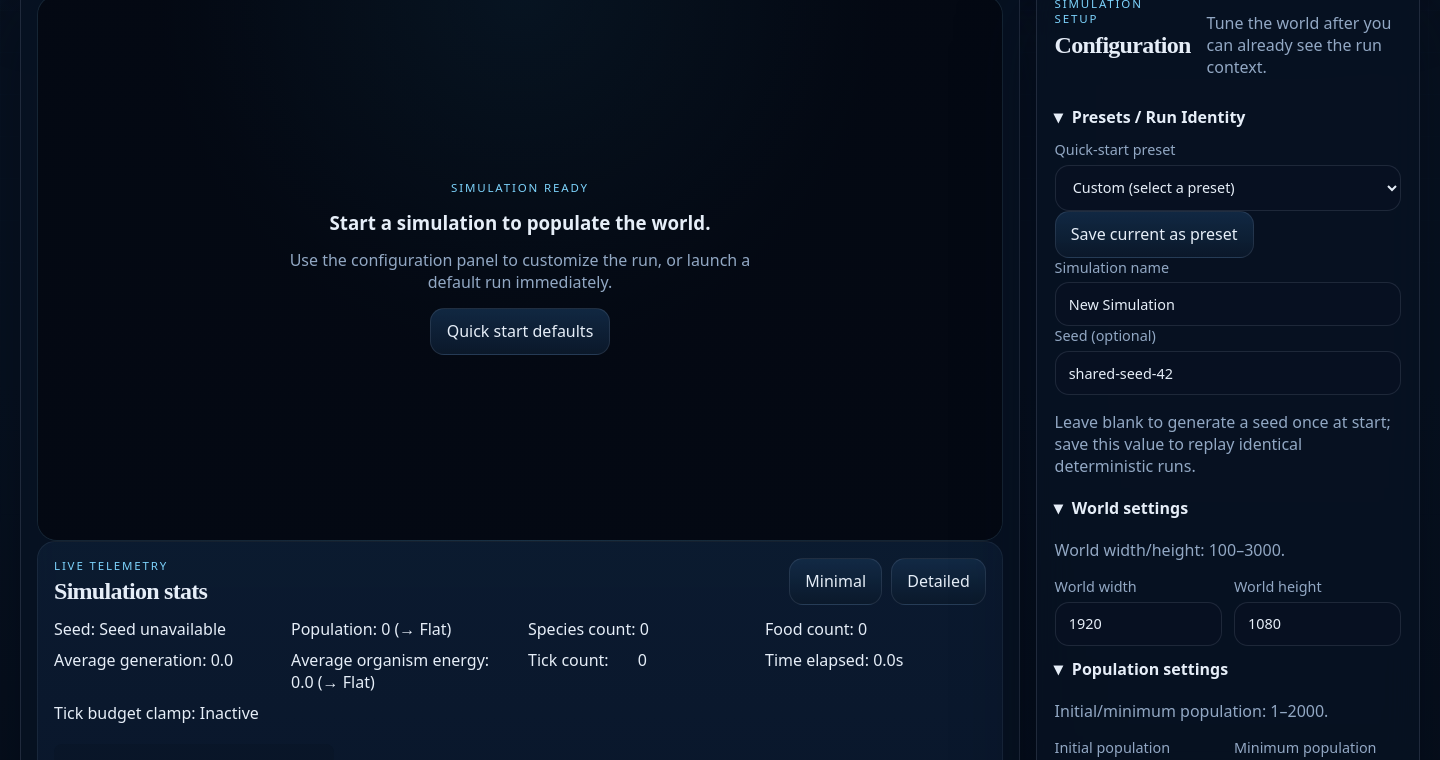
Test: App › shows URL seed mismatch banner with explicit values when active seed differs
(page scrolled)
Step 1. Replace the text in the field labelled "Seed (optional)" with "local-seed-99" → {"x": 1228, "y": 373}, box x1=1055 y1=351 x2=1401 y2=395
(page scrolled)
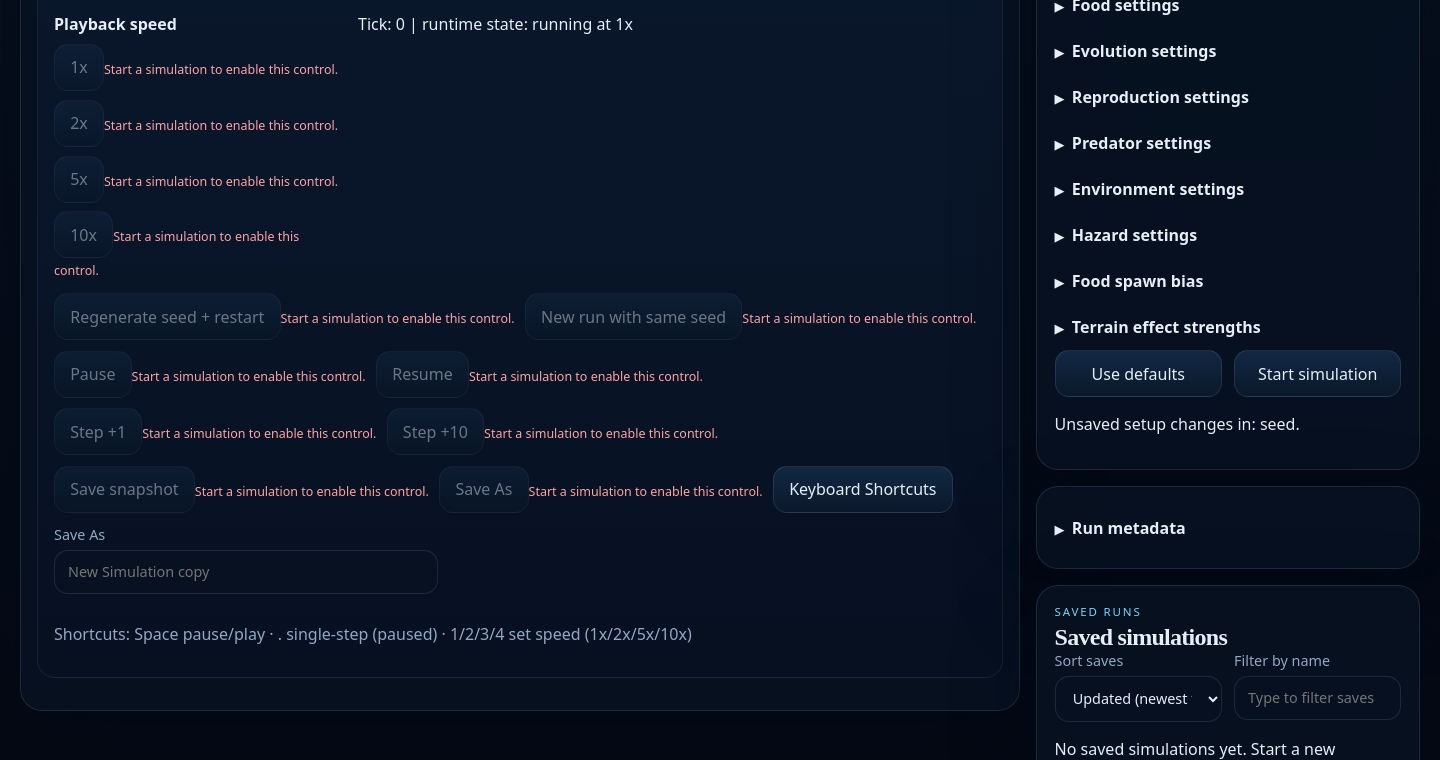
Step 2. Click the button "Start simulation" → {"x": 1318, "y": 374}, box x1=1234 y1=350 x2=1401 y2=397
(page scrolled)
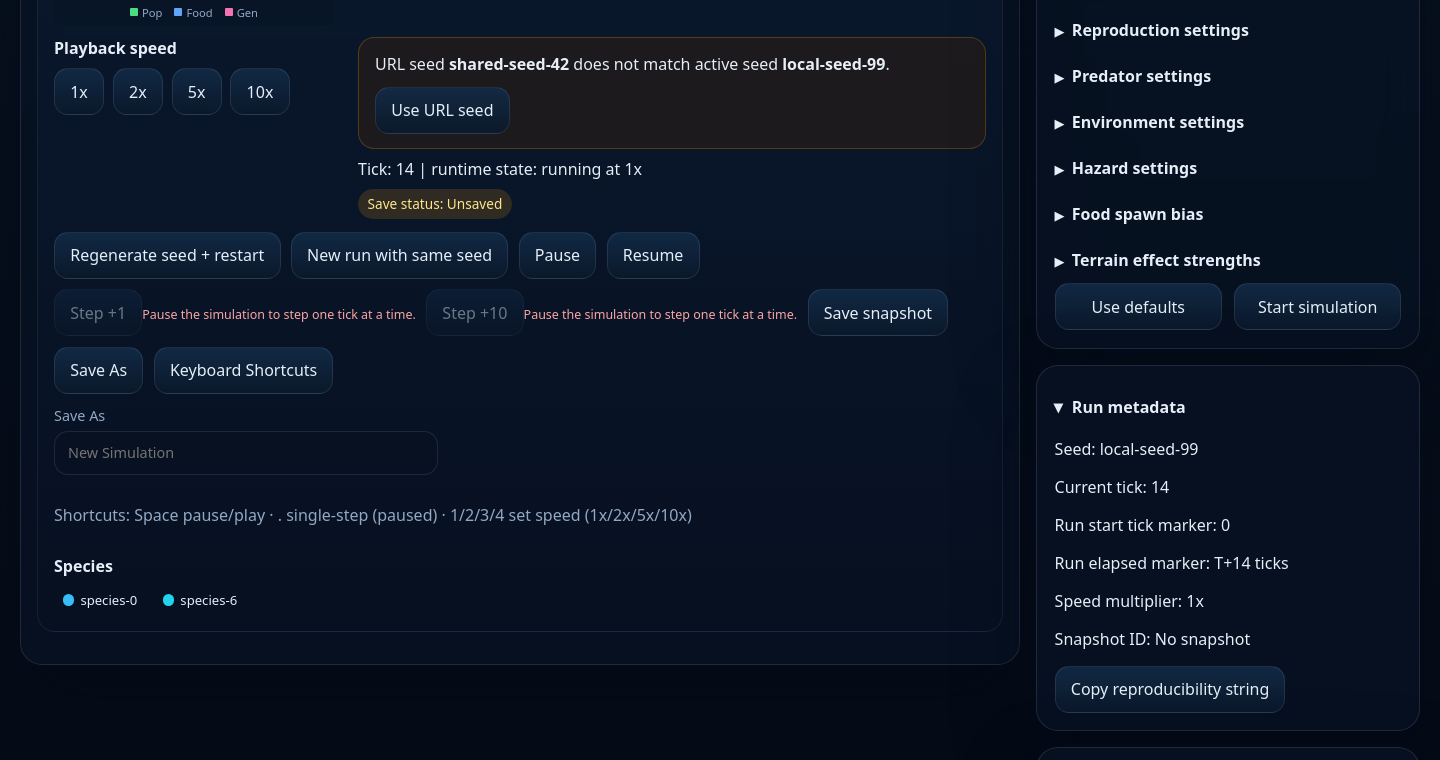
Check: the text "does not match active seed" reads "URL seed shared-seed-42 does not match active seed local-seed-99.", box x1=375 y1=53 x2=890 y2=75
Check: the button "Use URL seed" is shown, box x1=375 y1=87 x2=510 y2=134
